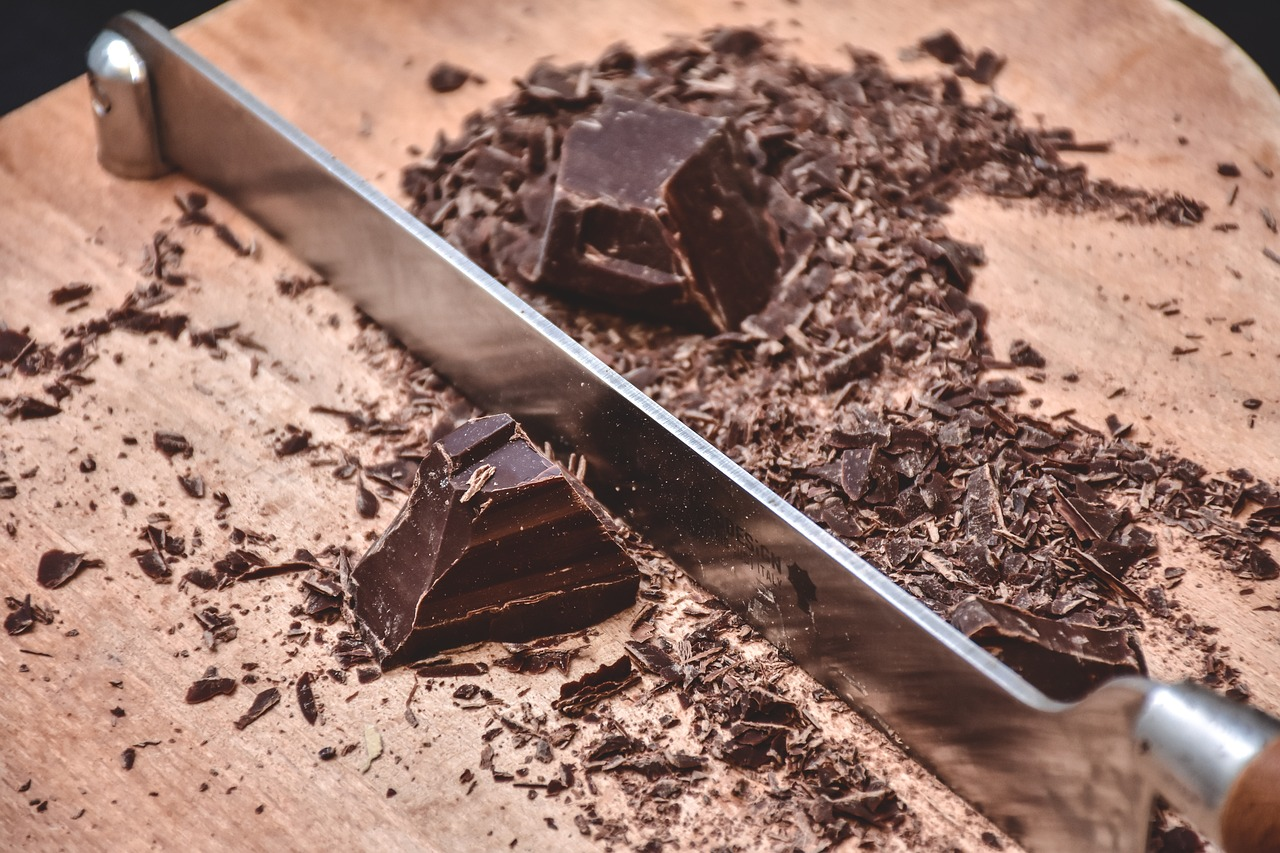knife: (78, 6, 1280, 853)
